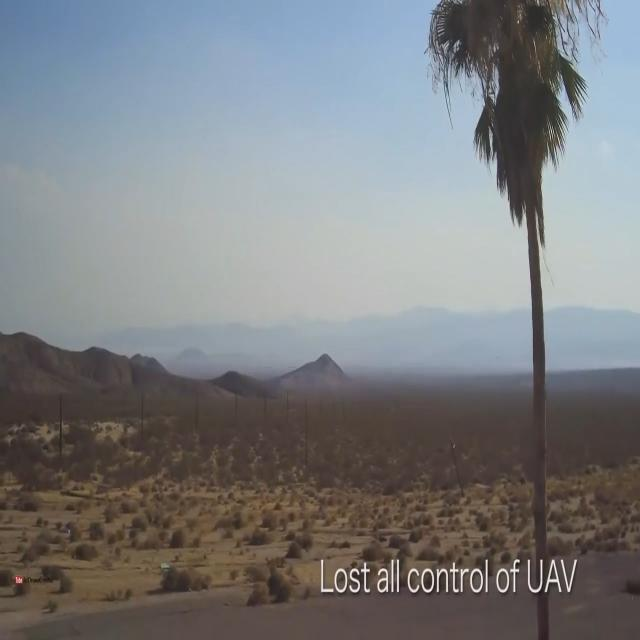Tree: (430, 1, 594, 640)
